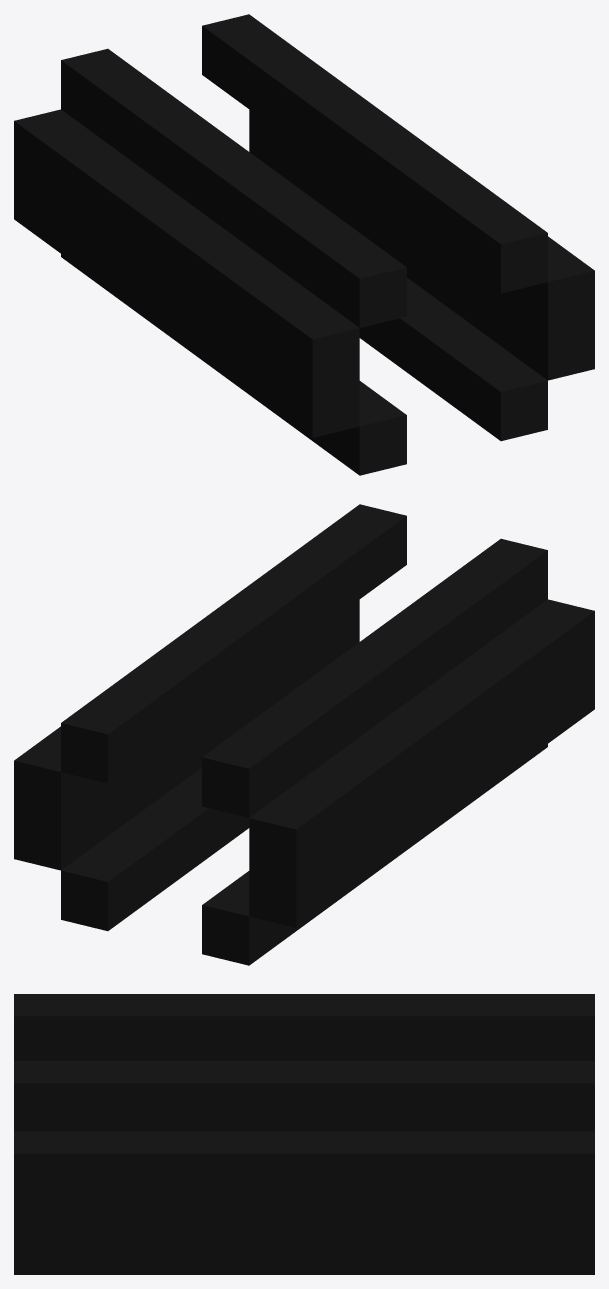
Rendered from ShotGunPump.obj.
3 renders of one model, top to bottom at view 1: azimuth 30°, elevation 25°; view 2: azimuth 150°, elevation 25°; view 3: azimuth 270°, elevation 25°, orthographic. The views are drawn at different scales.
Size of the model in its own units: 0.6 by 0.4 by 1.1.
1 material, 1 textured.
